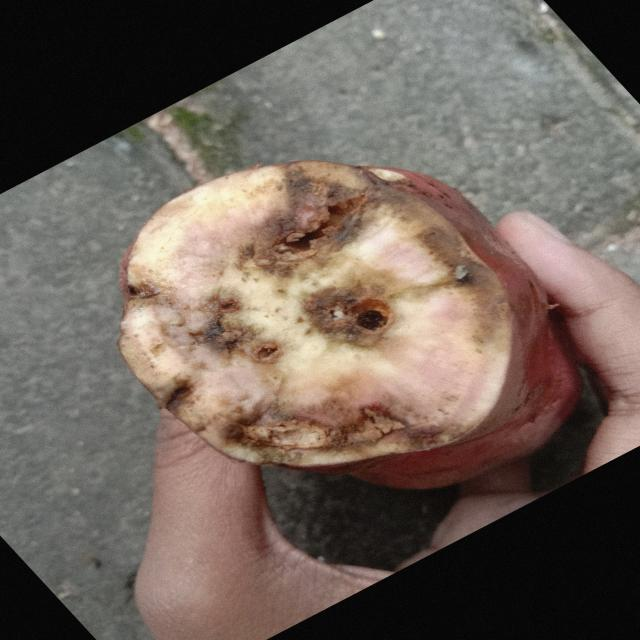Sick Sweet Potato_Tuber Rot: (118, 161, 512, 466)
